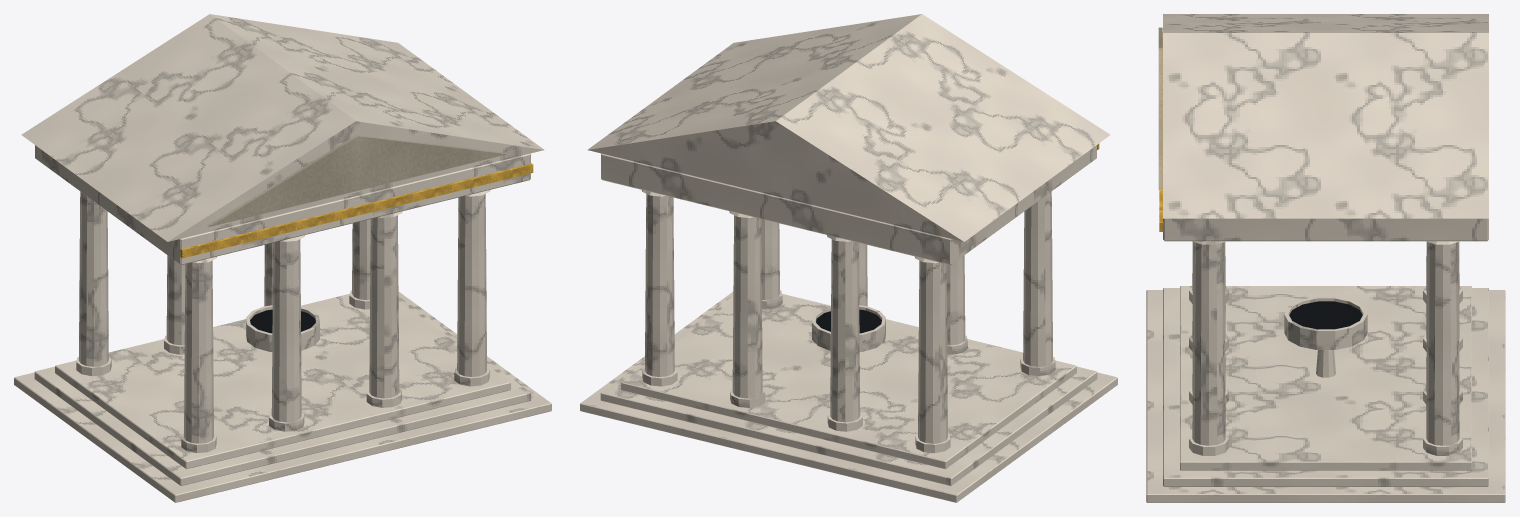
Rendered from greek_temple.glb.
The picture shows the model from 3 angles, left to right: view 1: azimuth 30°, elevation 25°; view 2: azimuth 150°, elevation 25°; view 3: azimuth 270°, elevation 25°; orthographic projection. The views are drawn at different scales.
Visible parts, largest first — view 1: greek_temple; view 2: greek_temple; view 3: greek_temple.
Part boxes in pixels (x1,y1,x2,y2): greek_temple: (14, 14, 551, 502); greek_temple: (580, 14, 1117, 502); greek_temple: (1146, 14, 1505, 502).
Size of what is drawn, in the model's own units: 5.8 by 4.86 by 4.3.
4 materials, 4 textured.
